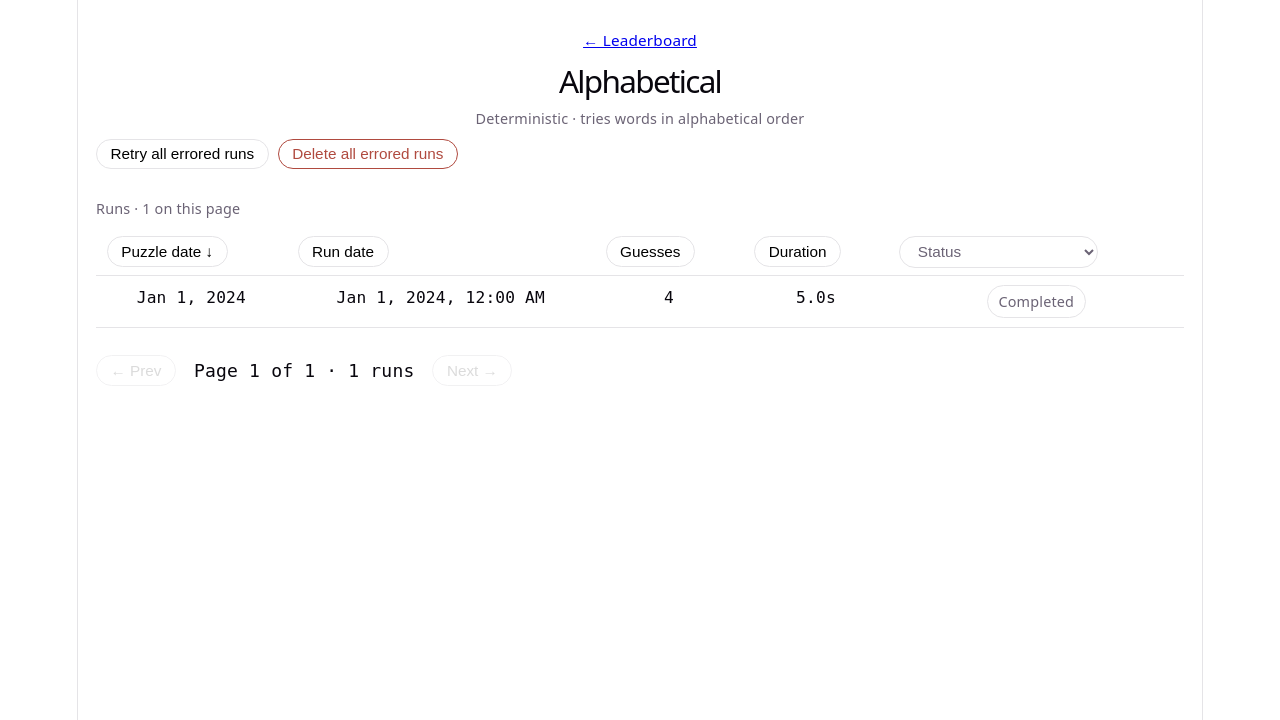
it: bulk errored-run actions › opens the retry-all modal, confirms, and shows the enqueue summary
Click the button "Retry all errored runs": (182, 154) x1=96 y1=139 x2=269 y2=169
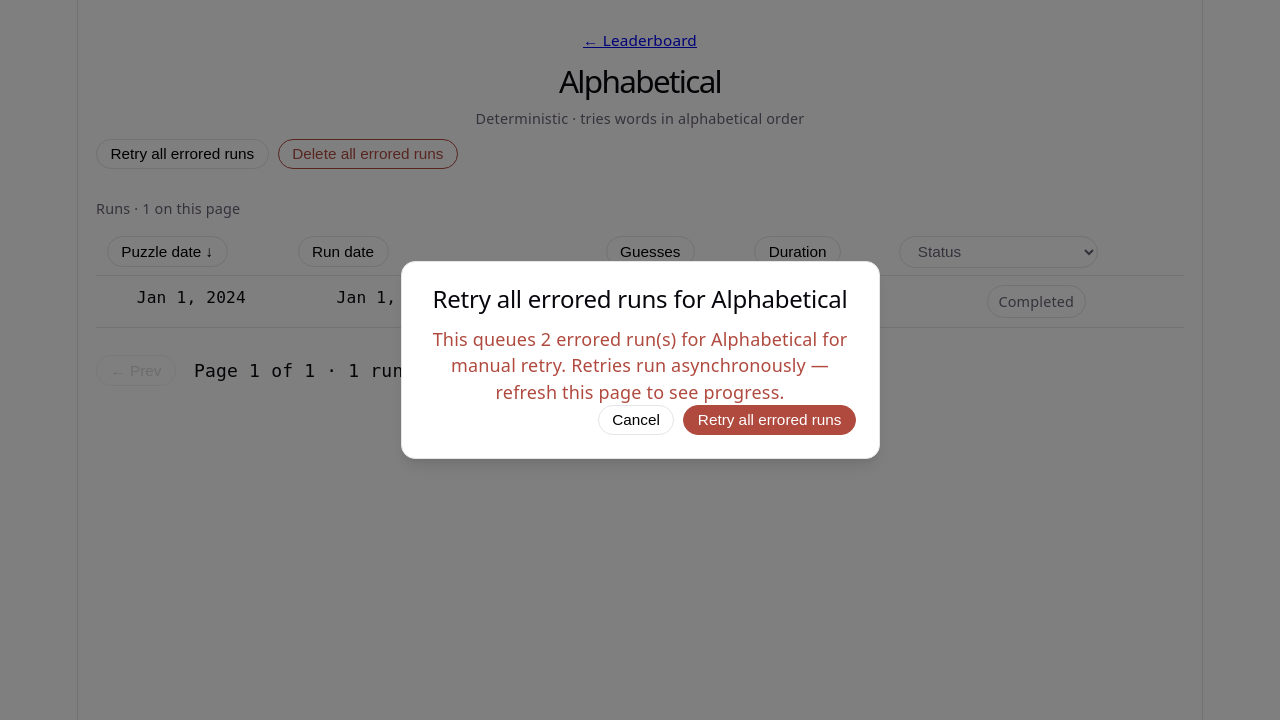
Click the button "Retry all errored runs": (770, 420) x1=683 y1=405 x2=856 y2=436
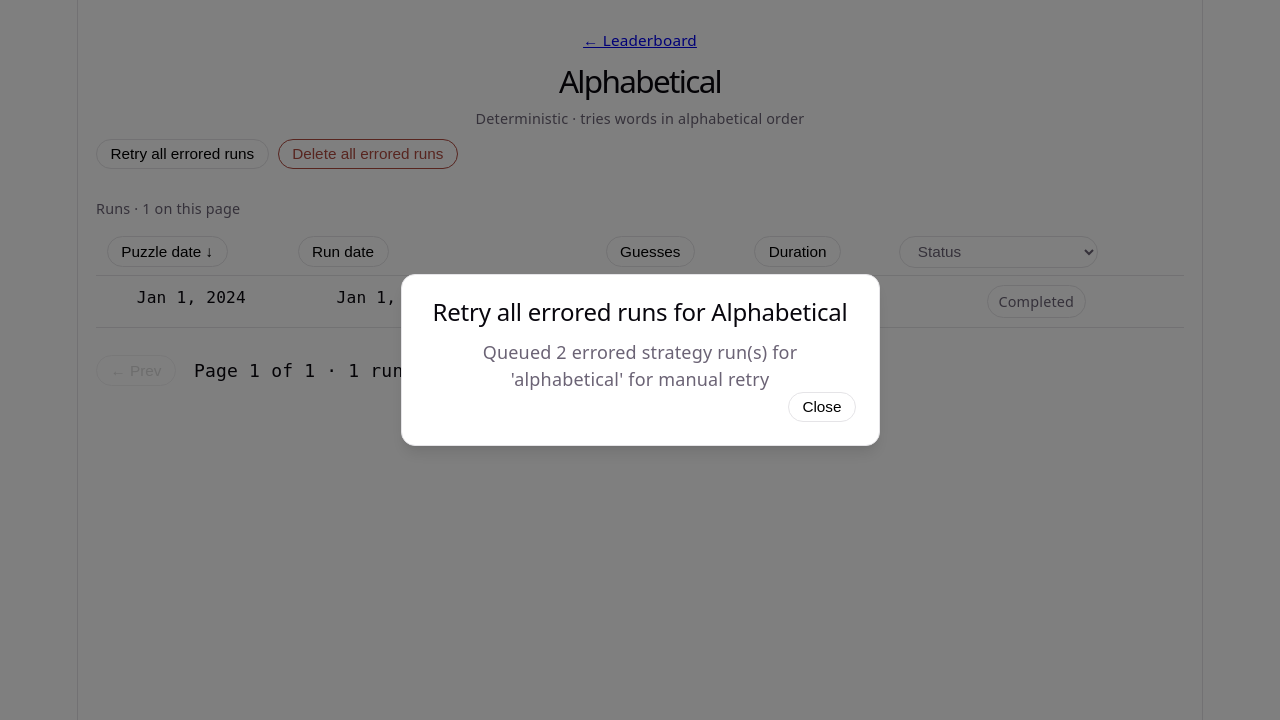
Now the text "Queued 2 errored strategy run(s) for 'alphabetical' for manual retry" is shown, box x1=483 y1=340 x2=797 y2=390
